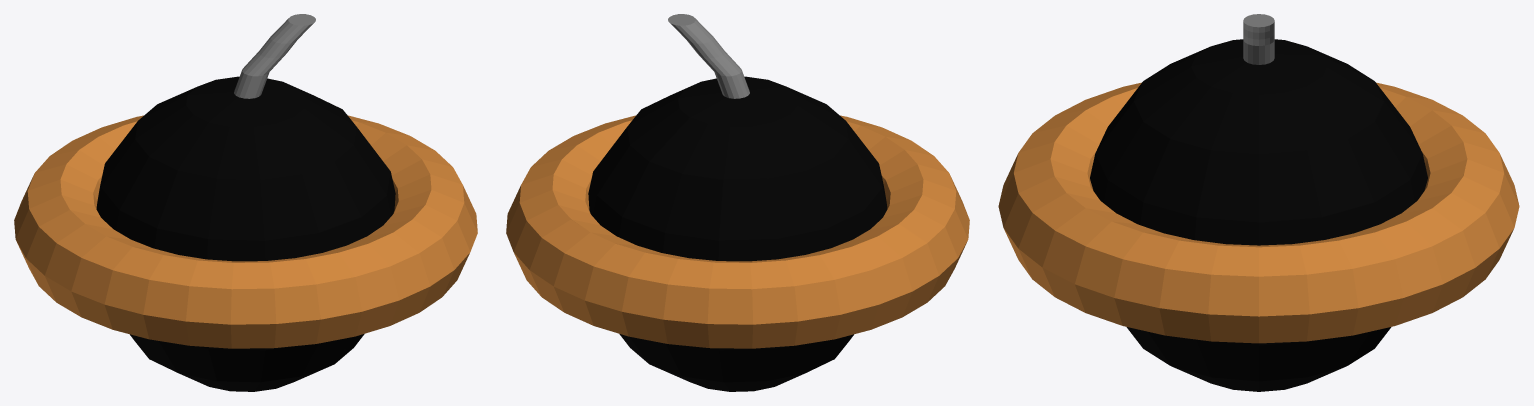
The model's file is bomb.obj.
The picture shows the model from 3 angles, left to right: view 1: azimuth 30°, elevation 25°; view 2: azimuth 150°, elevation 25°; view 3: azimuth 270°, elevation 25°; orthographic projection. The views are drawn at different scales.
Visible parts, largest first — view 1: 球; view 2: 球; view 3: 球.
Boxes of the visible parts, box(x1,y1,x2,y2) form: 球: box(14, 14, 477, 391); 球: box(506, 14, 969, 391); 球: box(998, 14, 1519, 391).
Size of the model in its own units: 2.5 by 2.04 by 2.5.
1 material, 1 textured.
